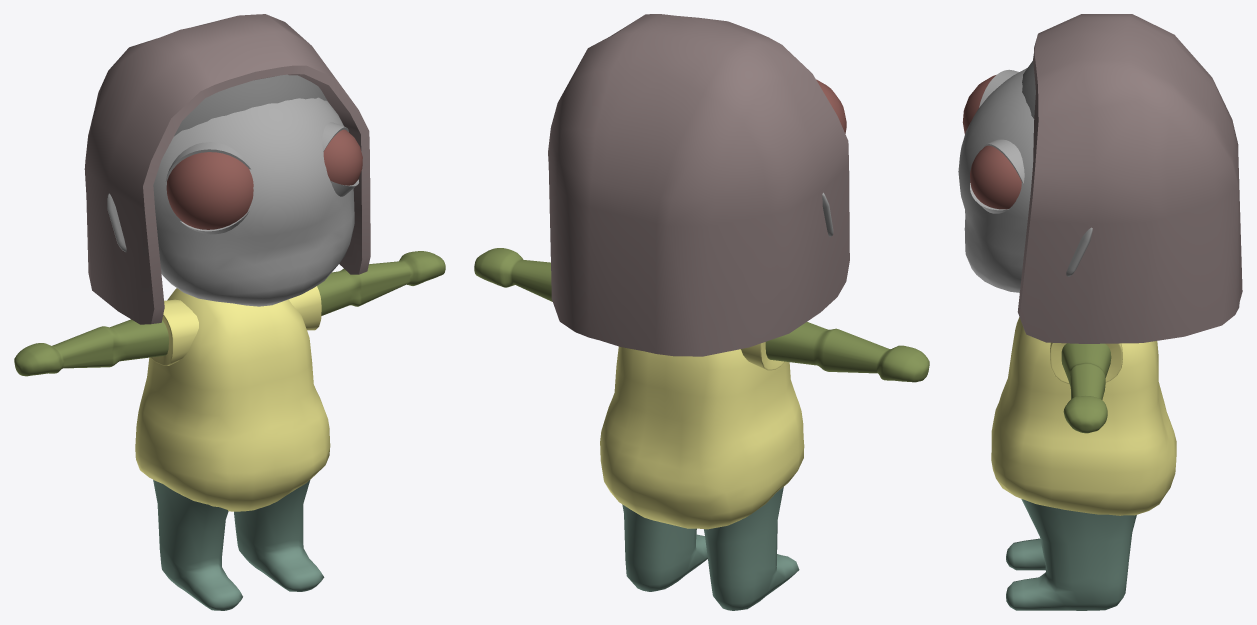
The model's file is BleuChara.fbx.
3 views of the same model, side by side, from view 1: azimuth 30°, elevation 25°; view 2: azimuth 150°, elevation 25°; view 3: azimuth 270°, elevation 25° (orthographic). The views are drawn at different scales.
Parts seen in each view (by area): view 1: bleu:JAMBRS2; view 2: bleu:JAMBRS2; view 3: bleu:JAMBRS2.
Part boxes in pixels (bbox=[...]): bleu:JAMBRS2: bbox=[14, 14, 445, 610]; bleu:JAMBRS2: bbox=[474, 14, 929, 610]; bleu:JAMBRS2: bbox=[958, 14, 1242, 610].
Size of the model in its own units: 714 by 864 by 403.
